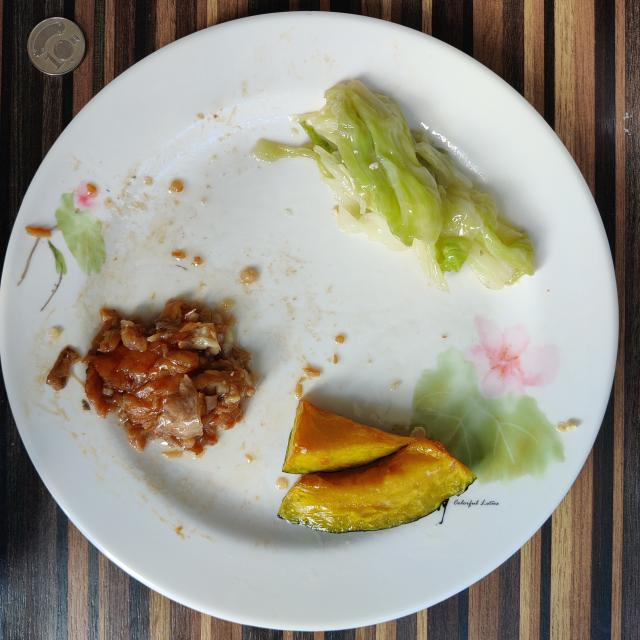Kabayaki sea bream fillet: (85, 300, 258, 454)
cabbage: (255, 80, 534, 290)
coin: (28, 18, 85, 75)
pumpkin: (278, 400, 476, 532)
